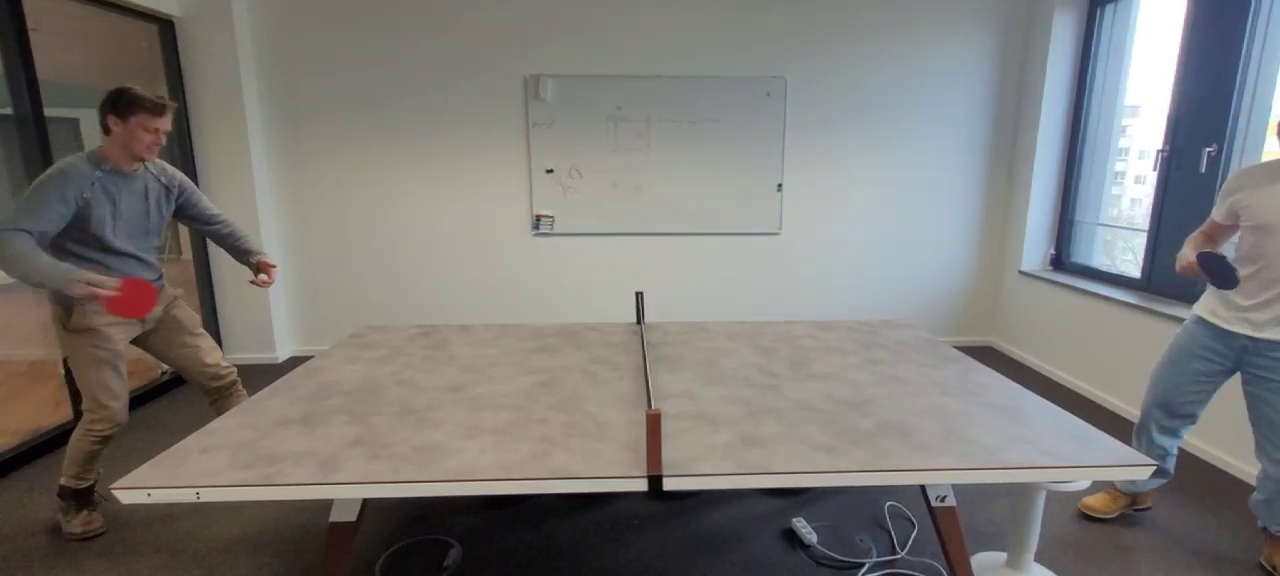1: (86, 275, 154, 319), (1196, 249, 1240, 289)
2: (257, 274, 268, 280)
ttplatte: (109, 319, 1154, 487)
